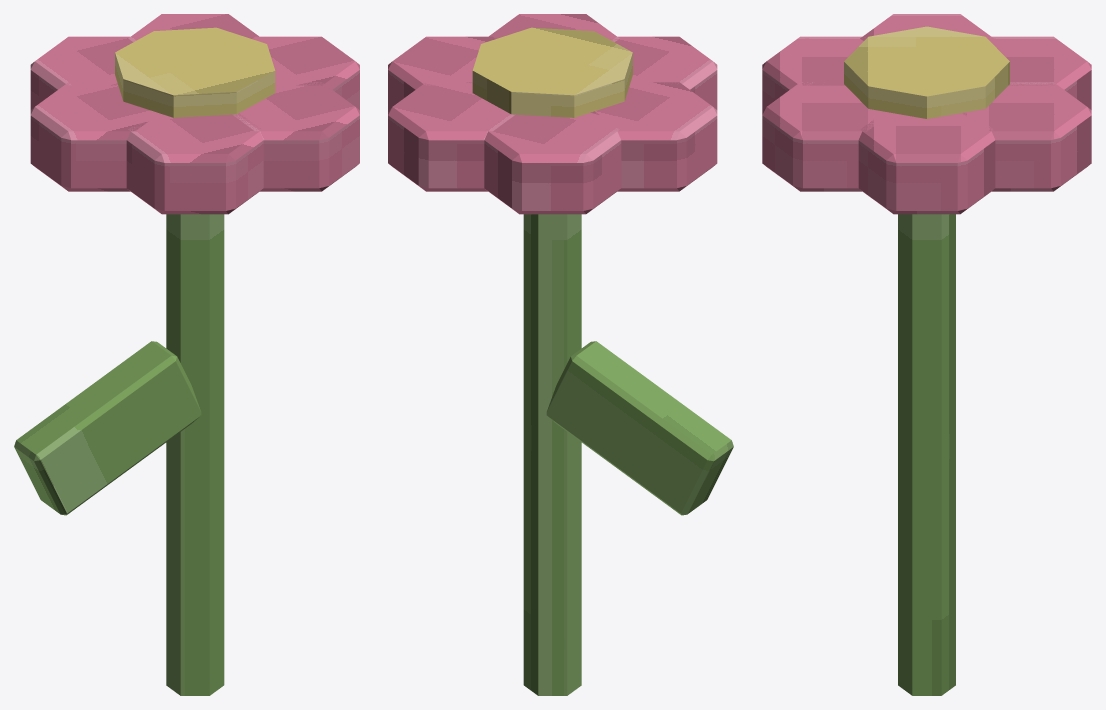
The model's file is flower_violet.glb.
The picture shows the model from 3 angles, left to right: view 1: azimuth 30°, elevation 25°; view 2: azimuth 150°, elevation 25°; view 3: azimuth 270°, elevation 25°; orthographic projection.
Visible parts, largest first — view 1: Stem, LeafL, Petal_4, FlowerCenter, Petal_3, Petal_5, Petal_0, Petal_2, Petal_1; view 2: Stem, LeafL, Petal_2, FlowerCenter, Petal_3, Petal_1, Petal_0, Petal_4, Petal_5; view 3: Stem, Petal_0, FlowerCenter, Petal_1, Petal_5, Petal_4, Petal_2, Petal_3.
Part boxes in pixels (box(x1,y1,x2,y2)): Stem: box(166, 214, 224, 695); LeafL: box(14, 341, 201, 515); Petal_4: box(126, 112, 263, 214); FlowerCenter: box(115, 27, 275, 117); Petal_3: box(30, 82, 159, 191); Petal_5: box(233, 82, 359, 191); Petal_0: box(252, 36, 359, 109); Petal_2: box(30, 36, 133, 109); Petal_1: box(128, 14, 258, 41); Stem: box(523, 214, 581, 695); LeafL: box(546, 341, 733, 515); Petal_2: box(484, 111, 621, 214); FlowerCenter: box(472, 27, 632, 117); Petal_3: box(589, 82, 717, 191); Petal_1: box(388, 82, 515, 191); Petal_0: box(388, 36, 495, 109); Petal_4: box(610, 36, 717, 109); Petal_5: box(489, 14, 619, 41); Stem: box(898, 214, 955, 695); Petal_0: box(858, 111, 995, 214); FlowerCenter: box(844, 26, 1009, 118); Petal_1: box(963, 82, 1091, 191); Petal_5: box(762, 82, 891, 191); Petal_4: box(762, 36, 865, 109); Petal_2: box(986, 36, 1091, 109); Petal_3: box(860, 14, 993, 40).
Bounding box in the file's own units: 0.4462 × 0.83 × 0.3972.
1 material, 1 textured.
